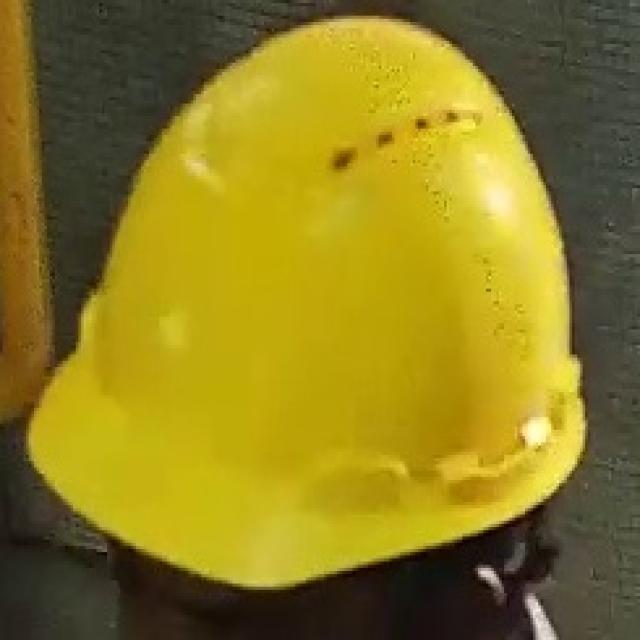yellow helmet: (26, 14, 591, 594)
